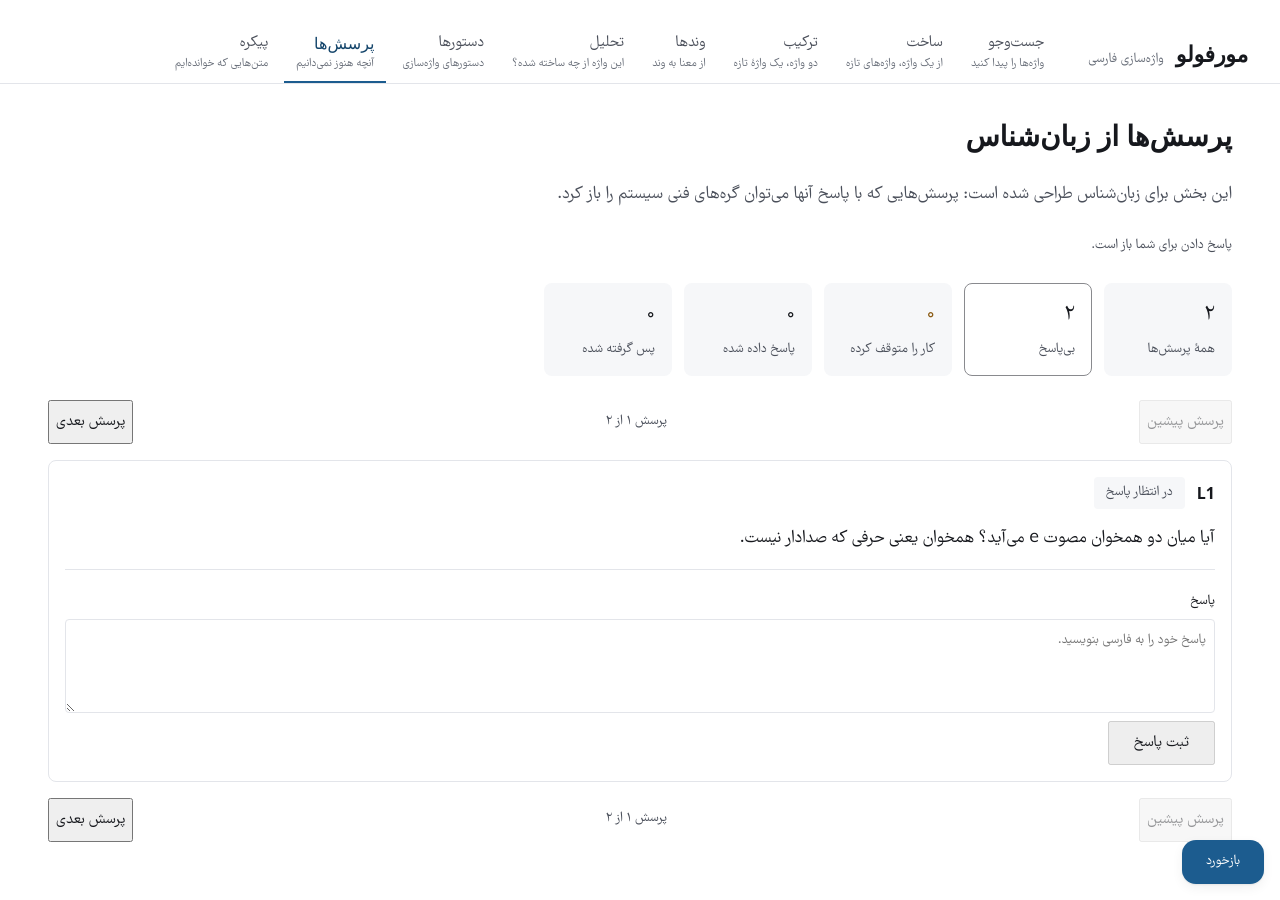
Test case: the questions screen › does not offer a step past either end
Expected: the text "L1" is shown, [1197, 479, 1215, 507]
Expected: the 1st button "پرسش پیشین" is disabled, [1139, 400, 1232, 444]
Click the 1st button "پرسش بعدی": {"x": 91, "y": 422} [48, 400, 133, 444]
(page scrolled)
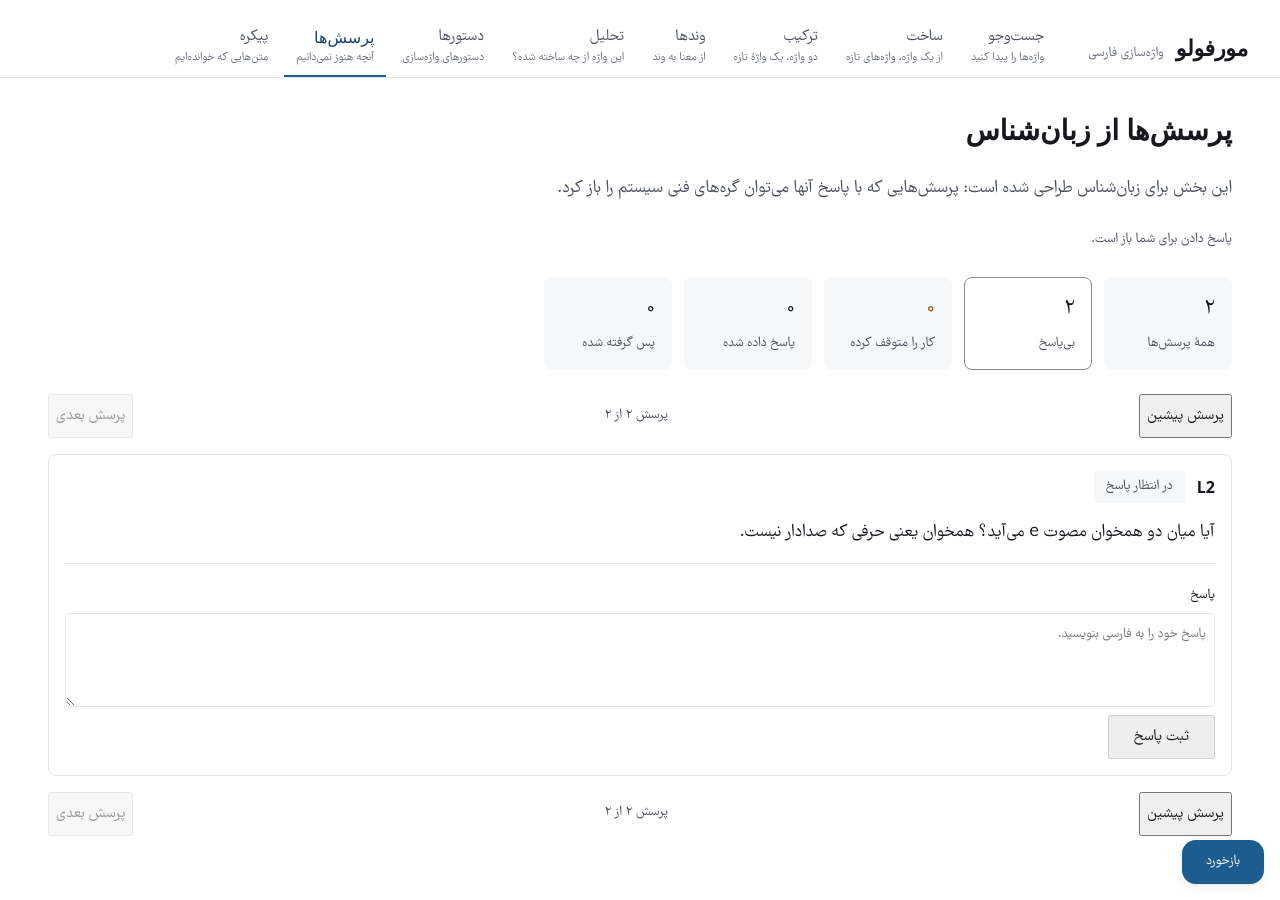
Expected: the text "L2" is shown, [1197, 473, 1215, 501]
Expected: the 1st button "پرسش بعدی" is disabled, [48, 394, 133, 438]
